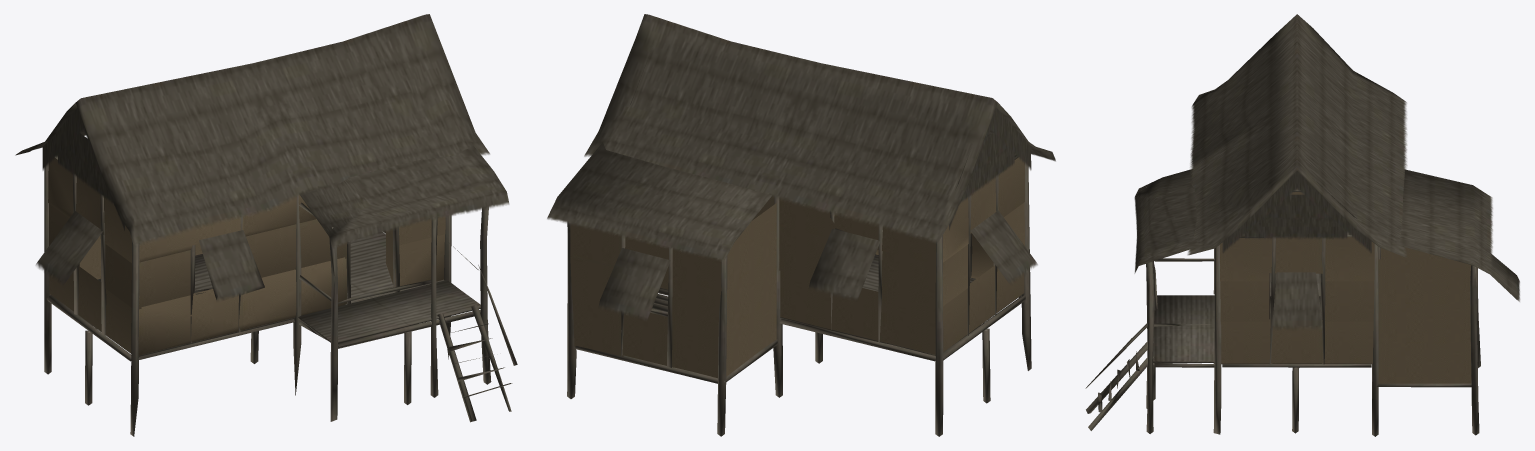
Rendered from nha-tranh.glb.
3 renders of one model, left to right at view 1: azimuth 30°, elevation 25°; view 2: azimuth 150°, elevation 25°; view 3: azimuth 270°, elevation 25°, orthographic. The views are drawn at different scales.
Visible parts, largest first — view 1: atap_house_0; view 2: atap_house_0; view 3: atap_house_0.
Part boxes in pixels (x1=…): atap_house_0: x1=15, y1=14, x2=517, y2=436; atap_house_0: x1=547, y1=14, x2=1055, y2=436; atap_house_0: x1=1085, y1=14, x2=1519, y2=436.
Bounding box in the file's own units: 0.9588 × 0.7056 × 0.9984.
Materials: 1 (1 with a texture image).
